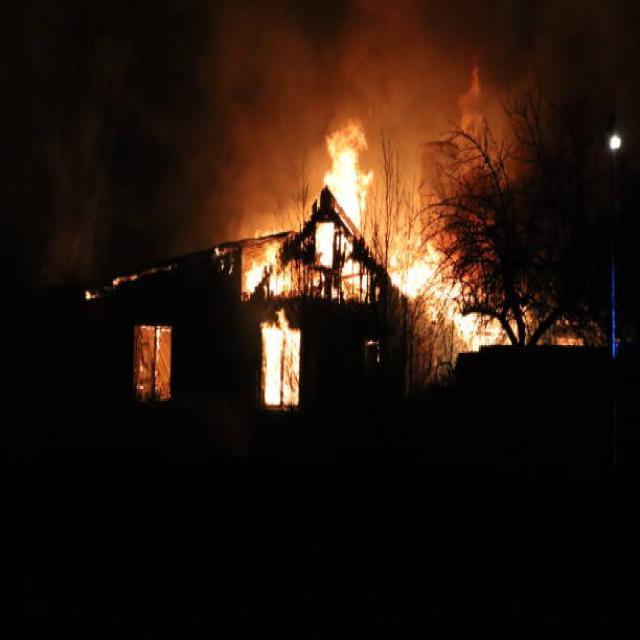Fire: (242, 120, 382, 308), (381, 218, 517, 356), (258, 318, 300, 404)
